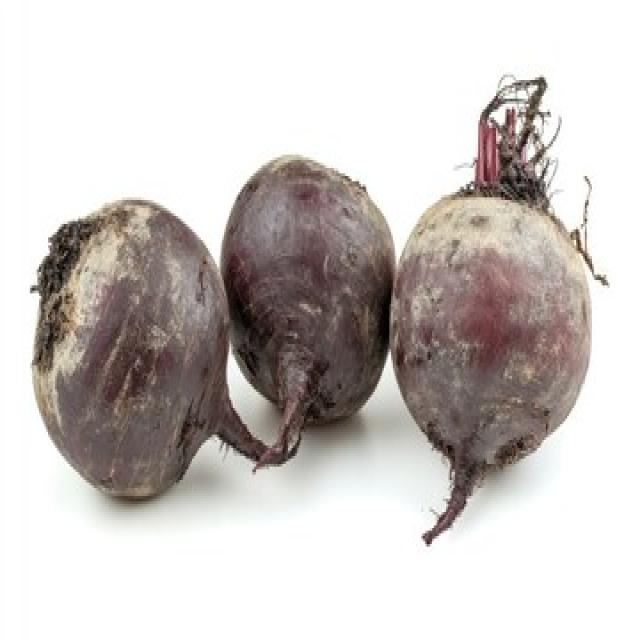Beetroot: (388, 72, 608, 547), (29, 195, 278, 501), (218, 150, 394, 470)
